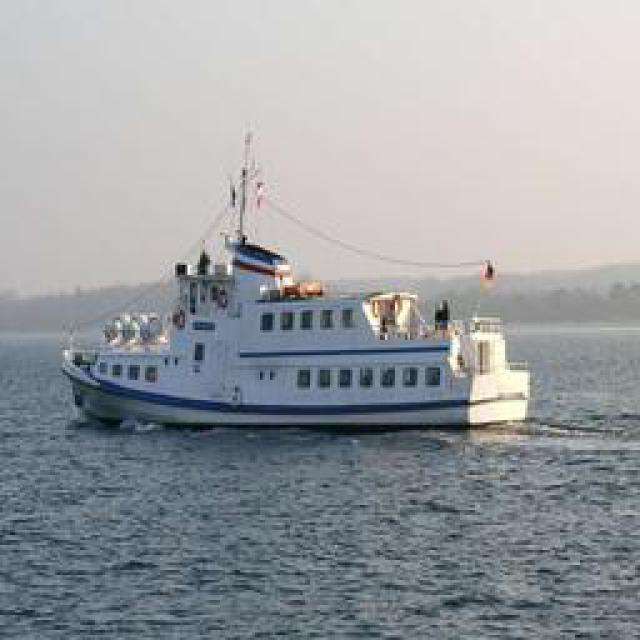Ship: (64, 125, 544, 428)
